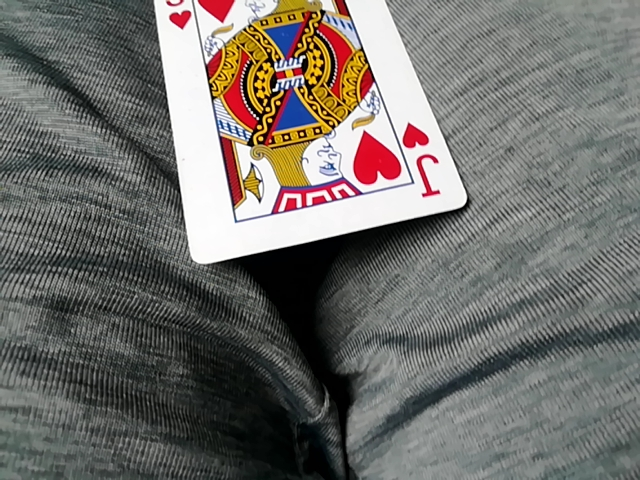hx j: (149, 0, 467, 267)
